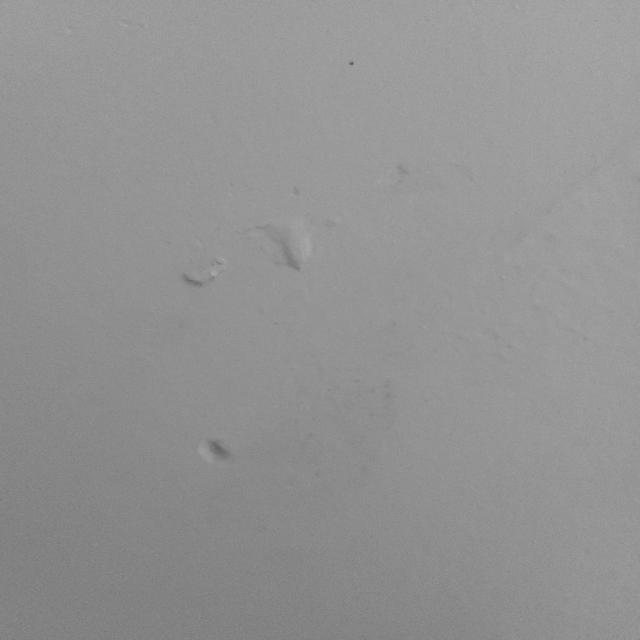rough and patchy surface: (99, 202, 339, 499)
